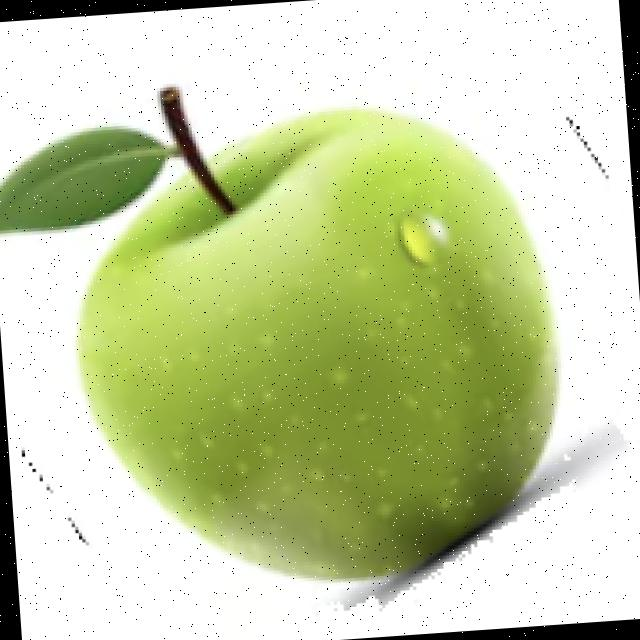apple: (71, 80, 631, 616)
